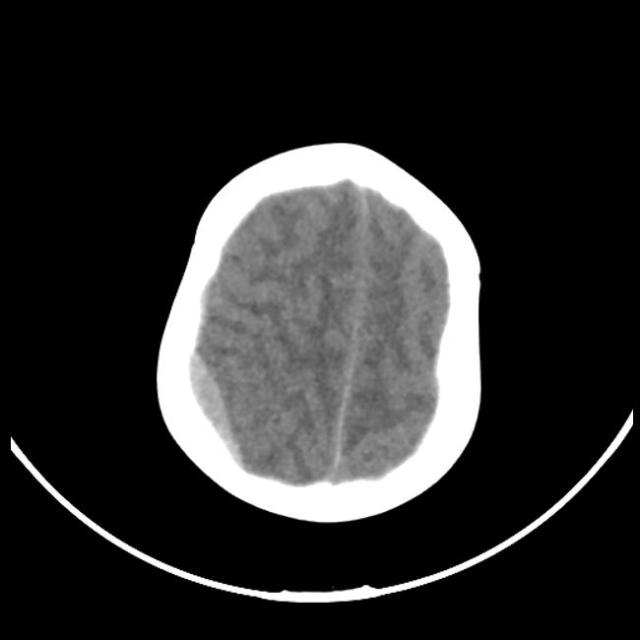lesion: (151, 137, 489, 525)
